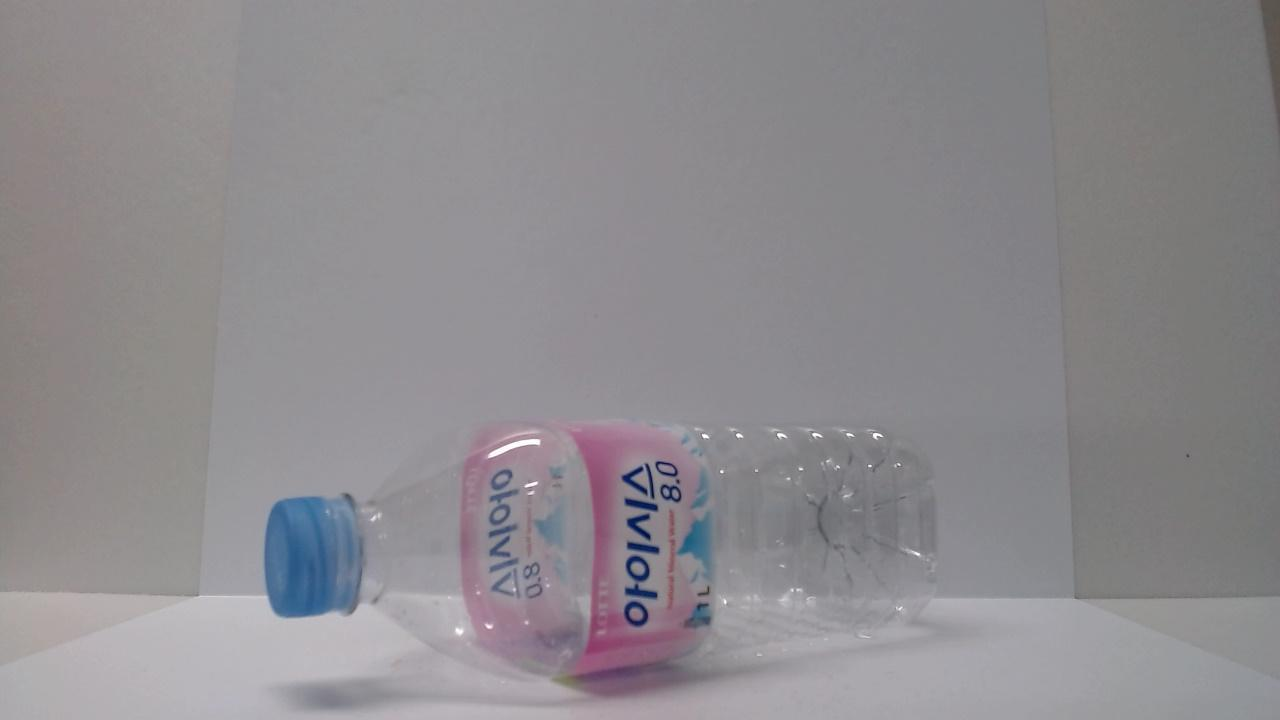bottle: (253, 432, 957, 654)
